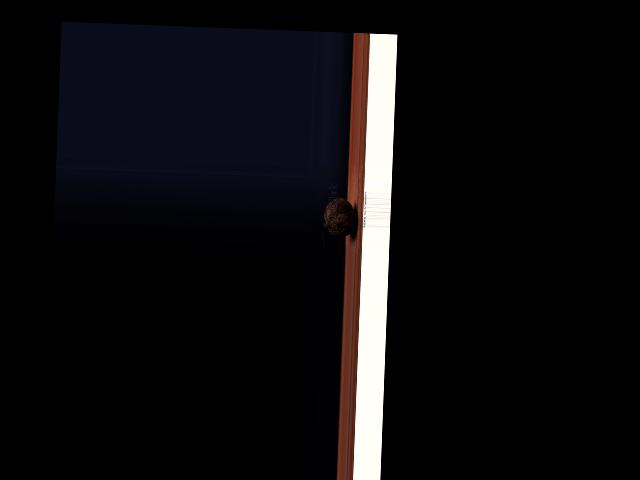beet: (322, 197, 357, 249)
